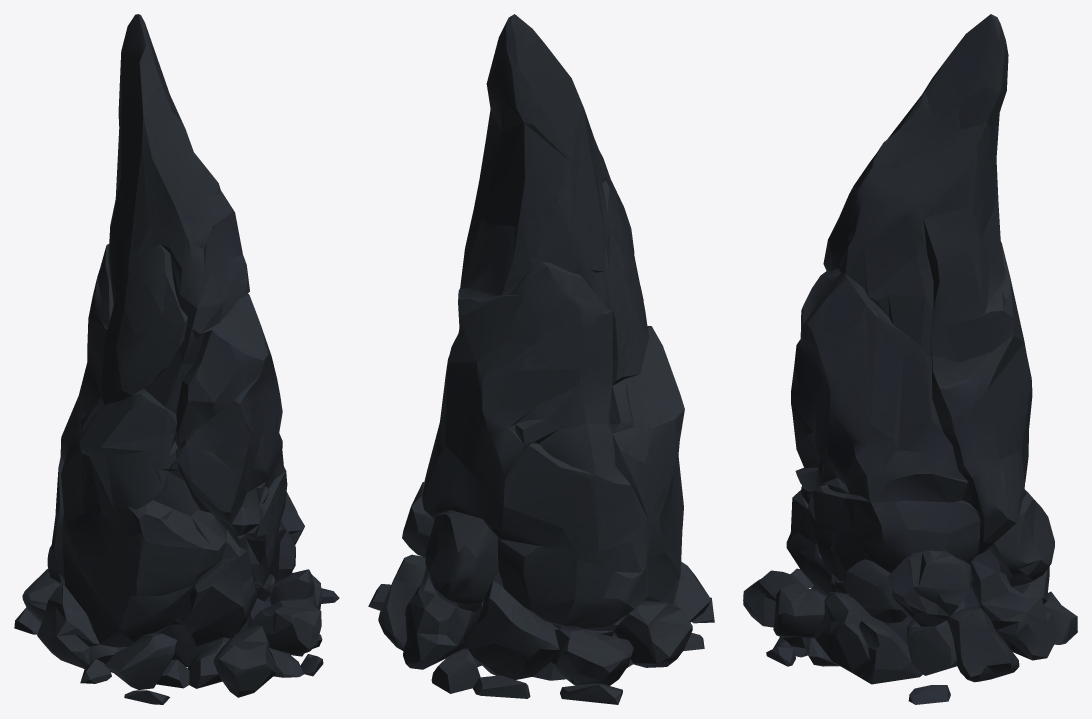
File: rocher_2.glb
3 renders of one model, left to right at view 1: azimuth 30°, elevation 25°; view 2: azimuth 150°, elevation 25°; view 3: azimuth 270°, elevation 25°, orthographic. The views are drawn at different scales.
Bounding box in the file's own units: 0.955 × 1.9 × 0.9459.
1 material, 1 textured.
